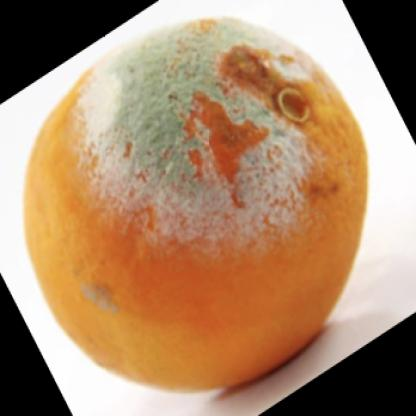rotten: (25, 19, 369, 393)
